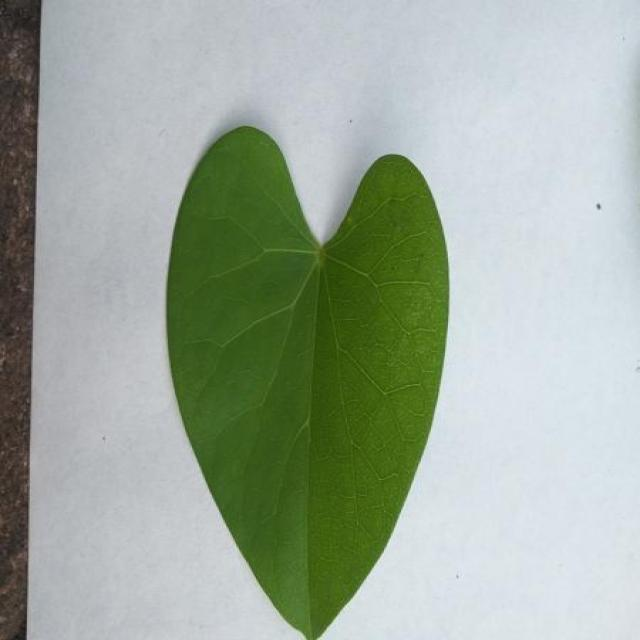Amruthaballi: (167, 126, 447, 639)
